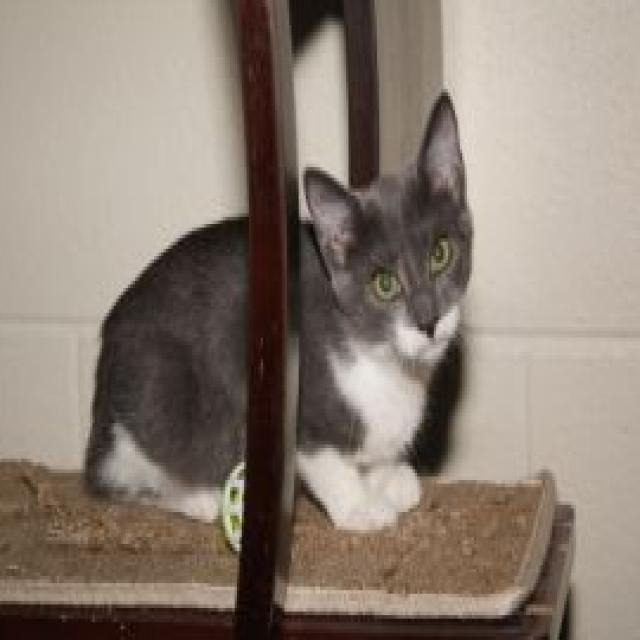American Bobtail: (82, 85, 477, 538)
